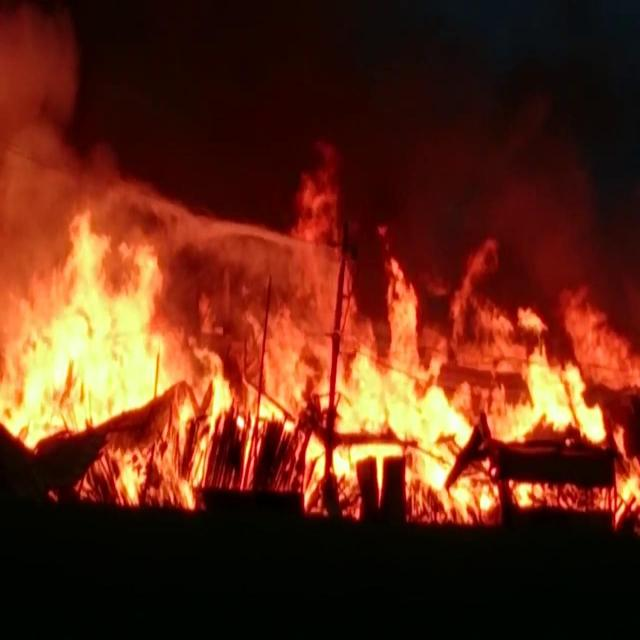Fire: (1, 144, 639, 522)
